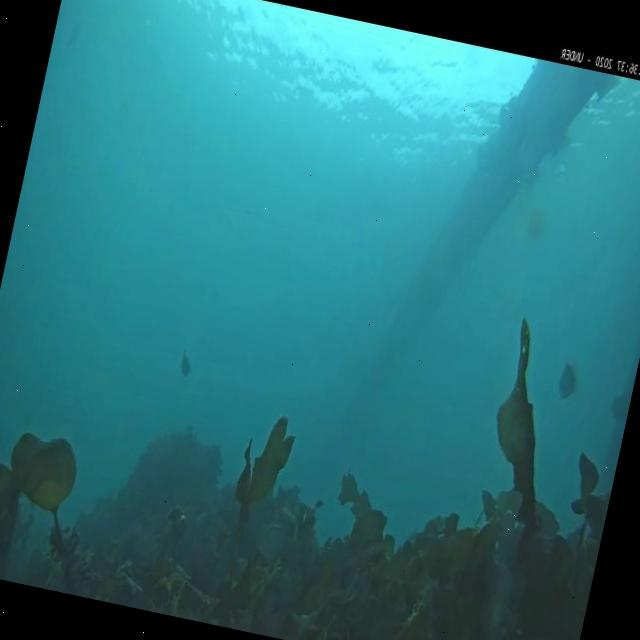fish: (554, 362, 578, 402), (176, 349, 195, 382)
